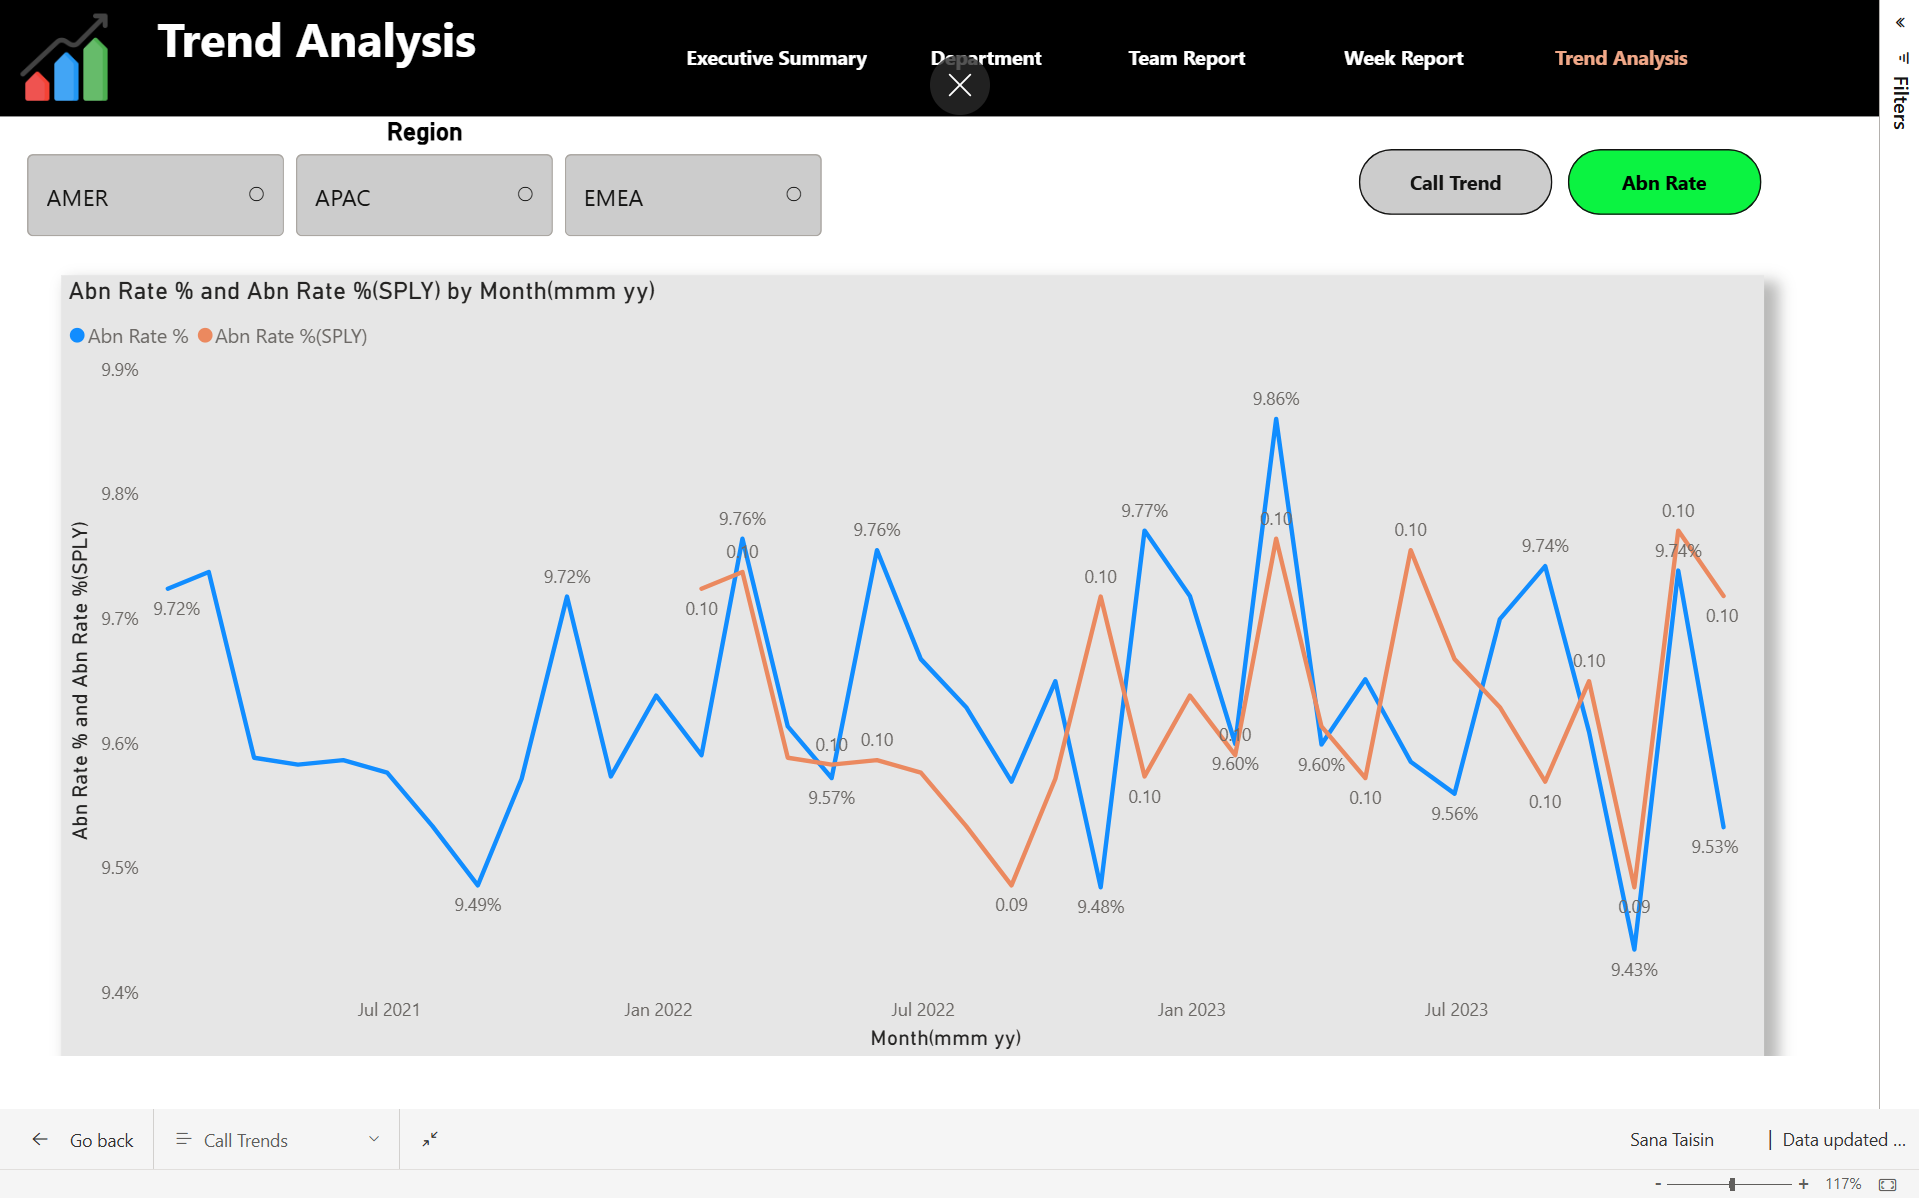

The dashboard page shown, as its layout file describes it:
{"tool":"powerbi","page":{"name":"Call Trends","canvas":[1280,720],"ordinal":6},"visuals":[{"type":"lineChart","fields":{"Category":["Calender.Month(mmm yy)"],"Y":["MTable.Abn Rate %","MTable.Abn Rate %(SPLY)"]},"box":[41.5,188.3,1159.6,532.4],"z":0},{"type":"bookmarkNavigator","box":[925.3,102.3,275.8,46],"z":2000},{"type":"textbox","box":[0,0,1279.7,79.7],"z":3000},{"type":"image","box":[0,0,86.9,79.4],"z":4000},{"type":"actionButton","box":[456.8,19.9,145.2,39.7],"z":5000},{"type":"actionButton","box":[621.9,19.9,100.5,39.7],"z":6000},{"type":"actionButton","box":[734.8,19.9,147.7,39.7],"z":7000},{"type":"actionButton","box":[882.3,19.3,148.3,40],"z":8000},{"type":"advancedSlicerVisual","fields":{"Values":["City.Region"]},"box":[13.3,80.1,551.6,87.5],"z":9000},{"type":"actionButton","box":[1030.6,19.3,148.3,40],"z":10000}]}

Visuals, with their boxes on the page's 1280x720 design canvas (x1, y1, x2, y2). These are canvas units, not pixel positions in the 1919x1198 screenshot, which may show the page scaled, cropped or inside an application window:
lineChart - Calender.Month(mmm yy) x MTable.Abn Rate %: {"x1": 42, "y1": 188, "x2": 1201, "y2": 721}
bookmarkNavigator: {"x1": 925, "y1": 102, "x2": 1201, "y2": 148}
textbox: {"x1": 0, "y1": 0, "x2": 1280, "y2": 80}
image: {"x1": 0, "y1": 0, "x2": 87, "y2": 79}
actionButton: {"x1": 457, "y1": 20, "x2": 602, "y2": 60}
actionButton: {"x1": 622, "y1": 20, "x2": 722, "y2": 60}
actionButton: {"x1": 735, "y1": 20, "x2": 882, "y2": 60}
actionButton: {"x1": 882, "y1": 19, "x2": 1031, "y2": 59}
advancedSlicerVisual - City.Region: {"x1": 13, "y1": 80, "x2": 565, "y2": 168}
actionButton: {"x1": 1031, "y1": 19, "x2": 1179, "y2": 59}
